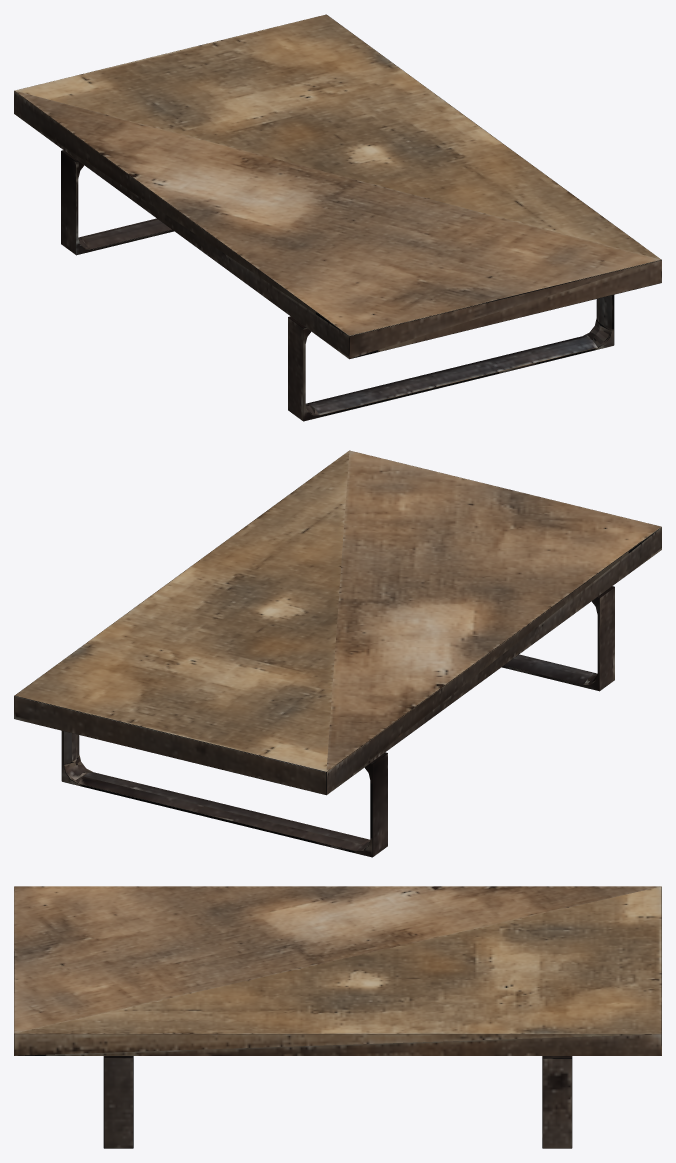
3 views of the same model, one above another, from view 1: azimuth 30°, elevation 25°; view 2: azimuth 150°, elevation 25°; view 3: azimuth 270°, elevation 25° (orthographic). The views are drawn at different scales.
Parts seen in each view (by area): view 1: Node; view 2: Node; view 3: Node.
Part boxes in pixels (x1,y1,x2,y2): Node: [14, 14, 661, 421]; Node: [14, 450, 661, 857]; Node: [14, 886, 661, 1148].
Bounding box in the file's own units: 0.3769 × 0.1378 × 0.7.
Materials: 1 (1 with a texture image).
